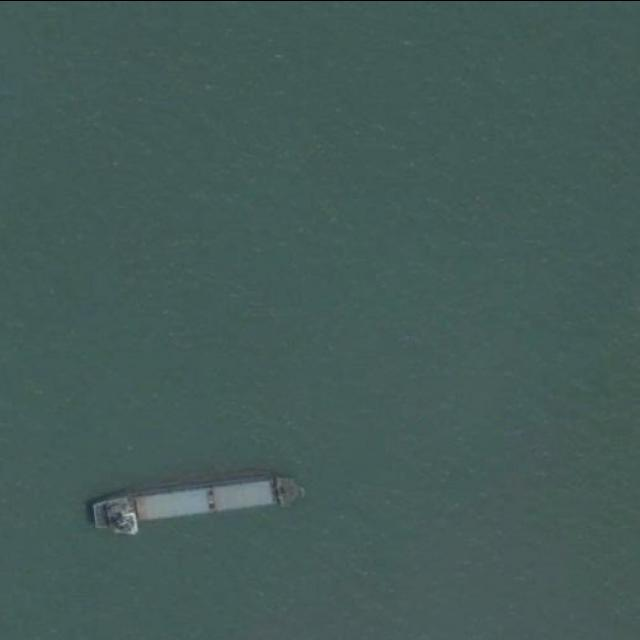ship: (89, 466, 309, 534)
